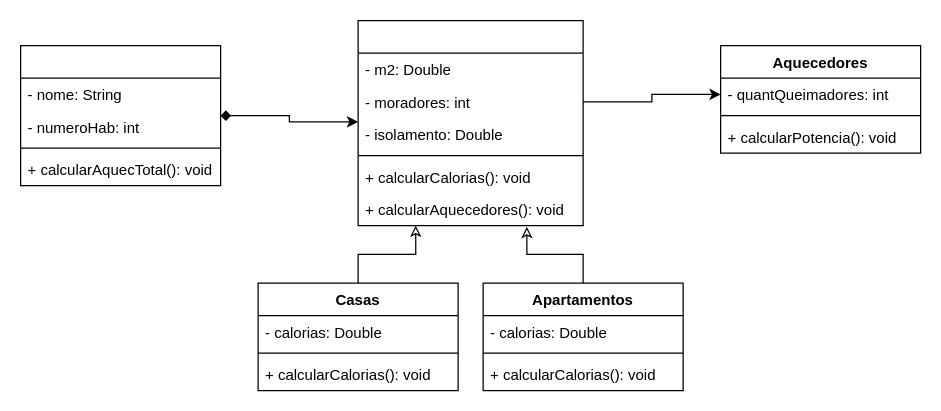
The diagram is 941 pixels wide and 411 high, and some of its shapes have lost their labels. Each missing label, with the box of its shape:
Cidade: (19, 44, 221, 186)
Residencias: (357, 19, 583, 226)
